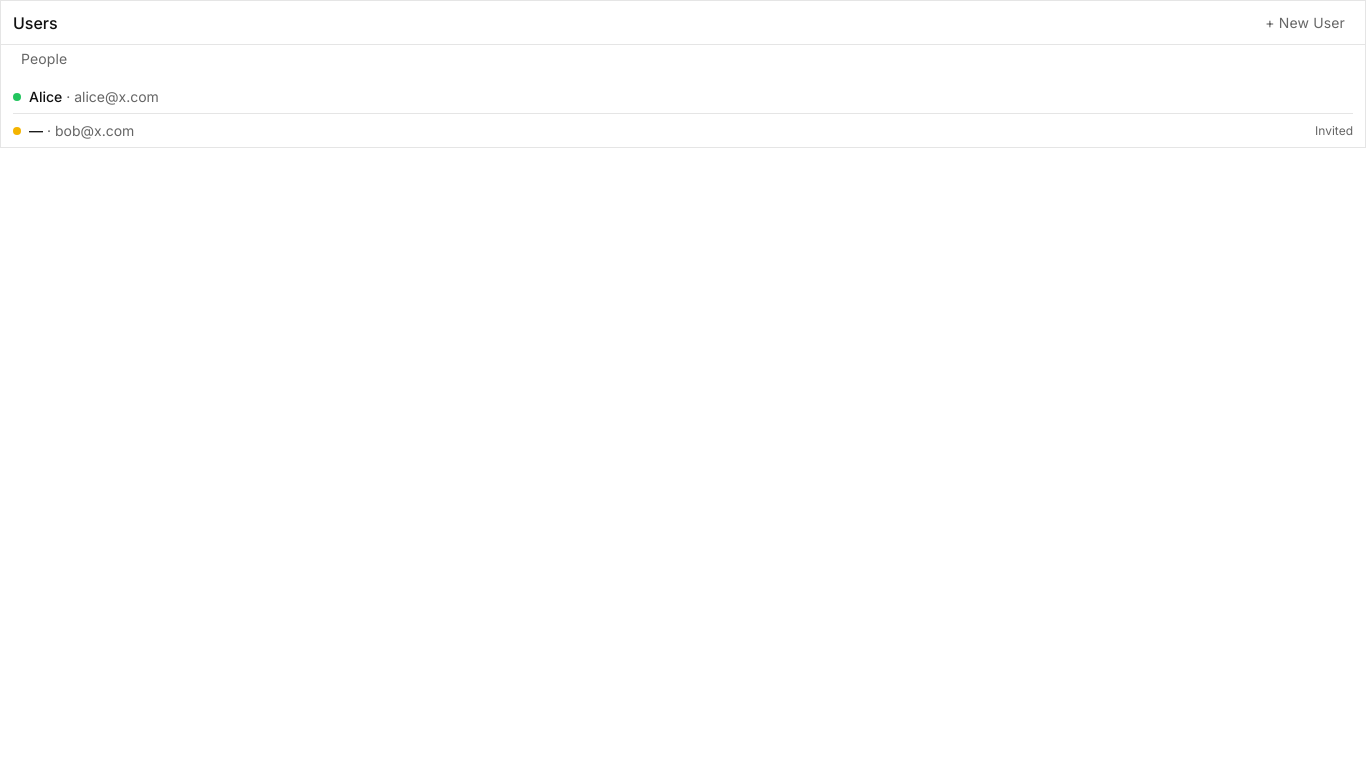
Test case: UserManagementPanel › A5: the sheet closes with its close button
This screenshot has width=1366, height=768.
Expected: the text "Alice" is shown, 29,88 -> 62,105
Click the button "Alice · alice@x.com" at (46, 96), box 13,88 -> 1353,105
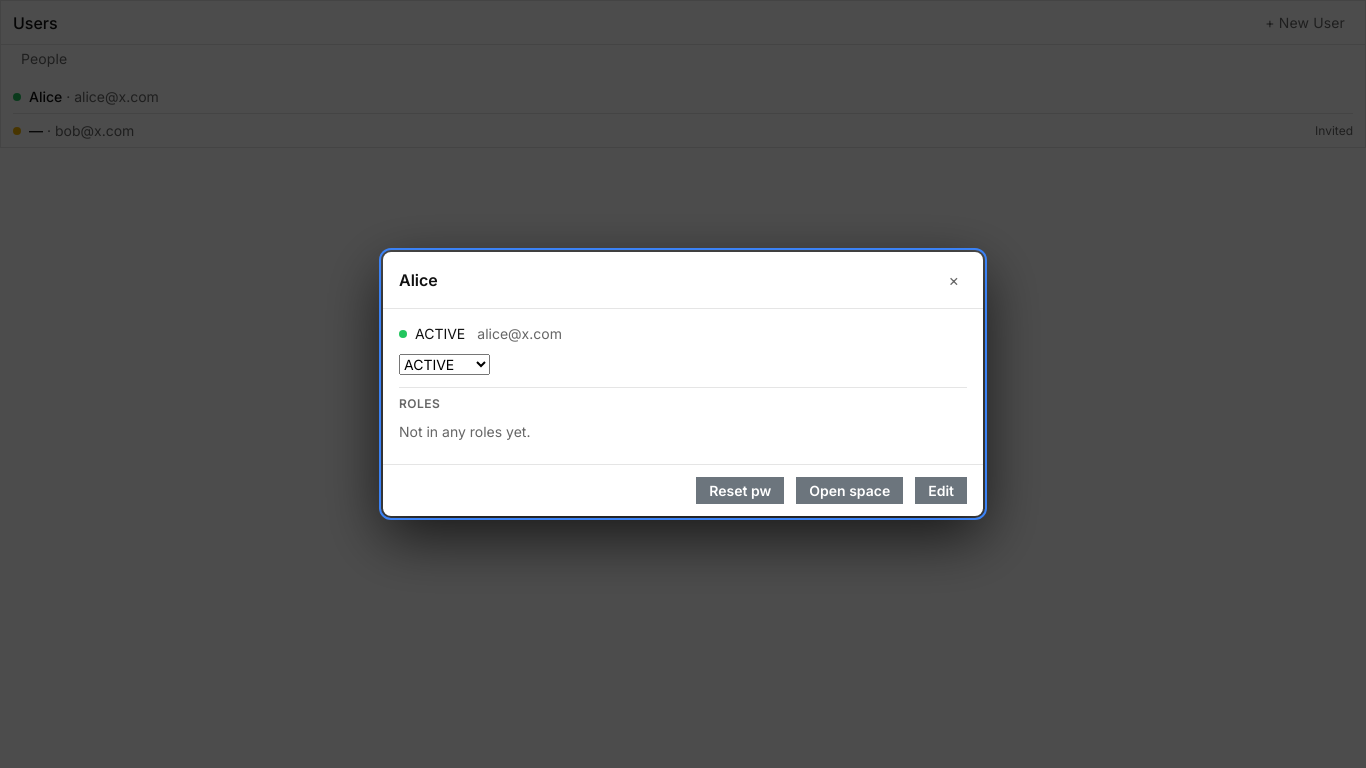
Expected: the dialog is shown, 383,252 -> 983,516
Click the button named "close" at (954, 280), box 940,264 -> 967,296
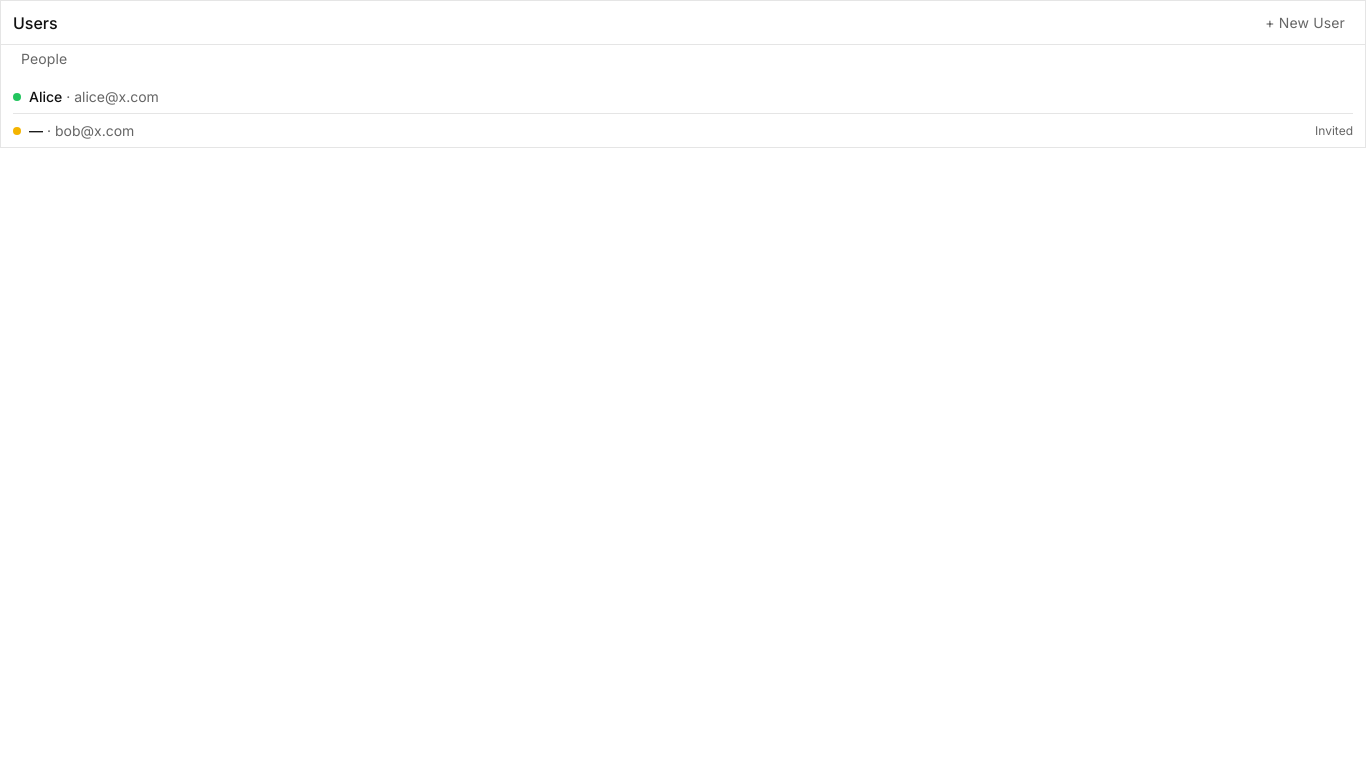
Expected: the dialog is gone
